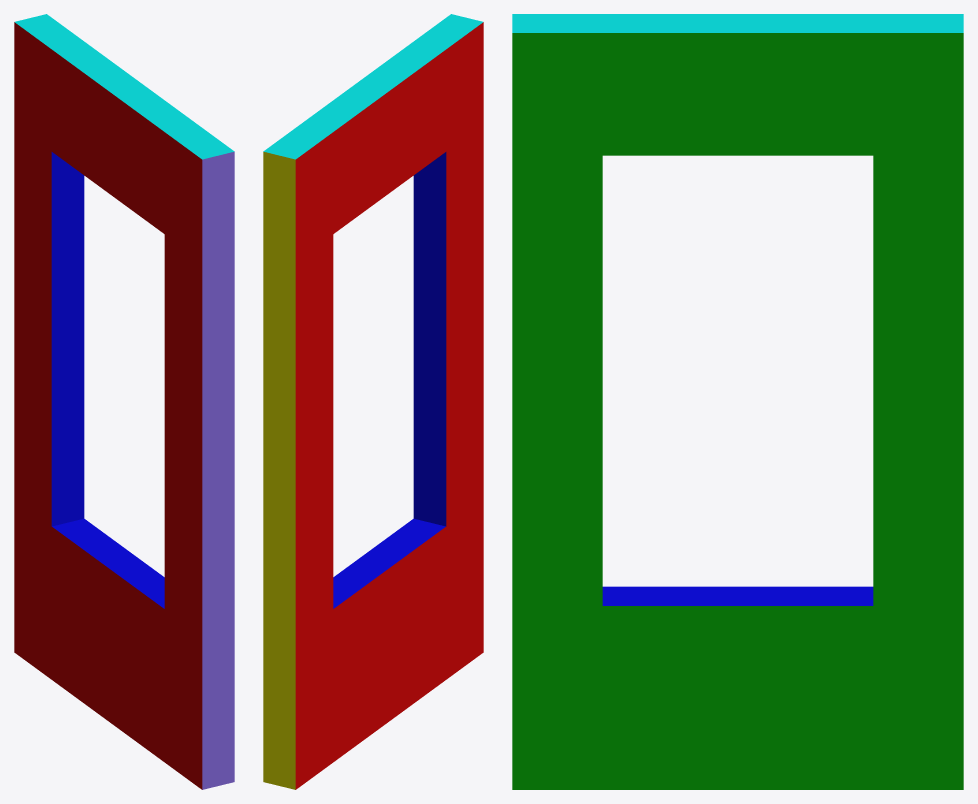
The model's file is Mesh_Wall_05.FBX.
3 renders of one model, left to right at view 1: azimuth 30°, elevation 25°; view 2: azimuth 150°, elevation 25°; view 3: azimuth 270°, elevation 25°, orthographic. The views are drawn at different scales.
Visible parts, largest first — view 1: Mesh_Wall_05; view 2: Mesh_Wall_05; view 3: Mesh_Wall_05.
Boxes of the visible parts, left/top/right/bottom form: Mesh_Wall_05: left=14, top=14, right=234, bottom=789; Mesh_Wall_05: left=263, top=14, right=483, bottom=789; Mesh_Wall_05: left=512, top=14, right=963, bottom=789.
Size of the model in its own units: 20 by 370 by 200.
